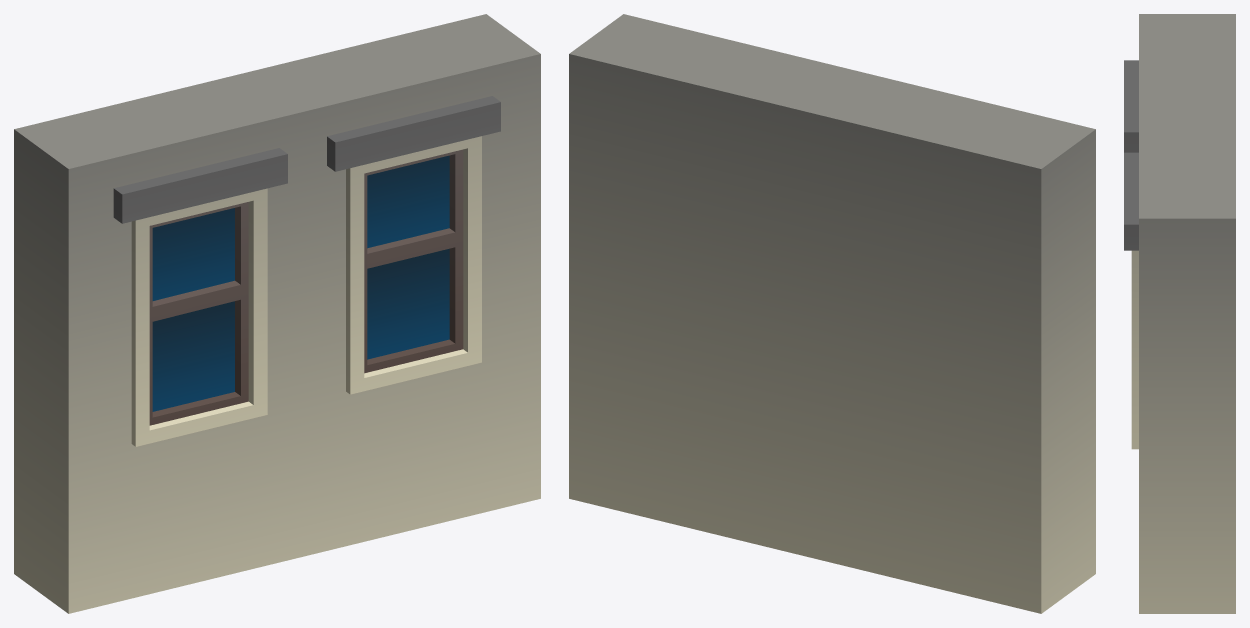
File: B02_fenetre_2.fbx
The picture shows the model from 3 angles, left to right: view 1: azimuth 30°, elevation 25°; view 2: azimuth 150°, elevation 25°; view 3: azimuth 270°, elevation 25°; orthographic projection. The views are drawn at different scales.
Parts seen in each view (by area): view 1: B02_fenetre_2; view 2: B02_fenetre_2; view 3: B02_fenetre_2.
Part boxes in pixels (bbox=[...]): B02_fenetre_2: bbox=[14, 14, 540, 613]; B02_fenetre_2: bbox=[569, 14, 1095, 613]; B02_fenetre_2: bbox=[1124, 14, 1235, 613].
Bounding box in the file's own units: 500 × 450 × 116.
